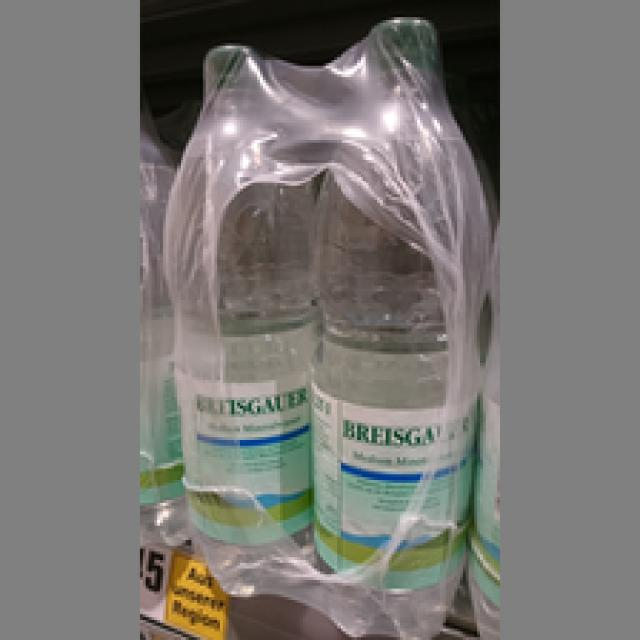groceries: (312, 9, 488, 637), (160, 43, 317, 597)
